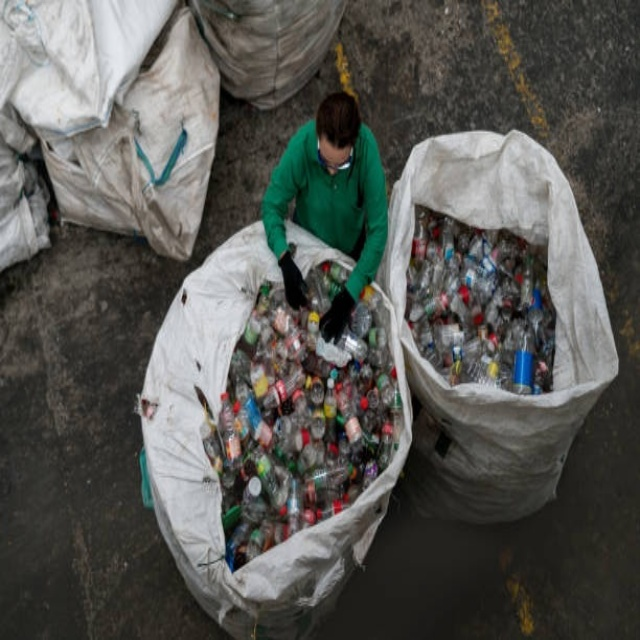Gafas: (317, 137, 354, 173)
Guantes: (319, 287, 354, 344), (279, 251, 310, 310)
